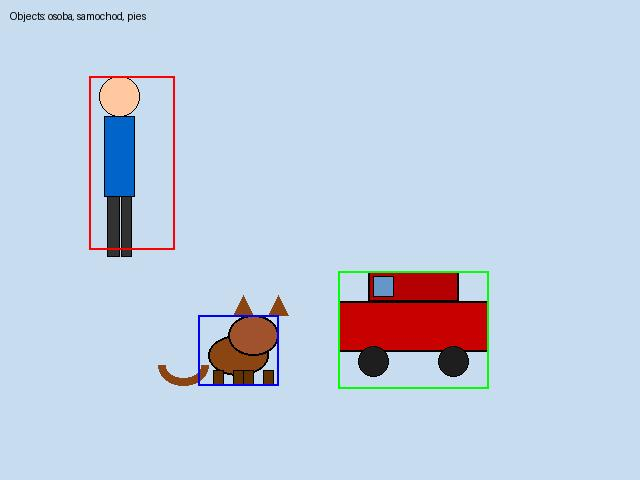osoba: (89, 76, 174, 249)
pies: (198, 315, 278, 385)
samochod: (338, 271, 488, 388)
